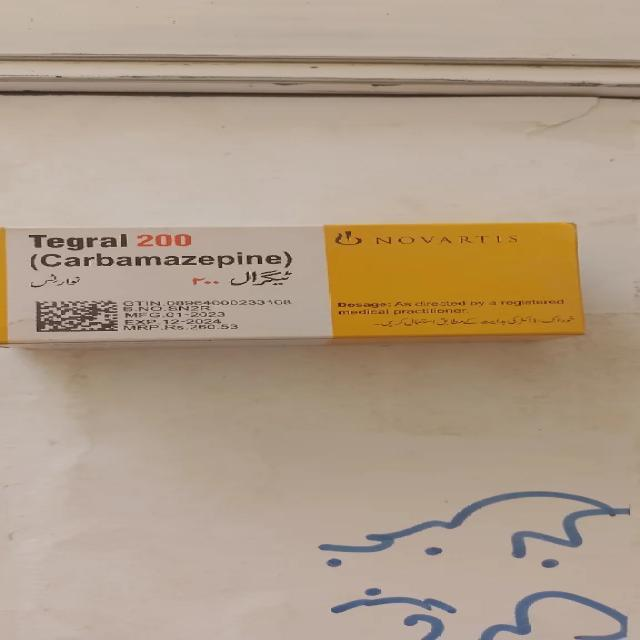drug-name: (28, 232, 196, 248)
